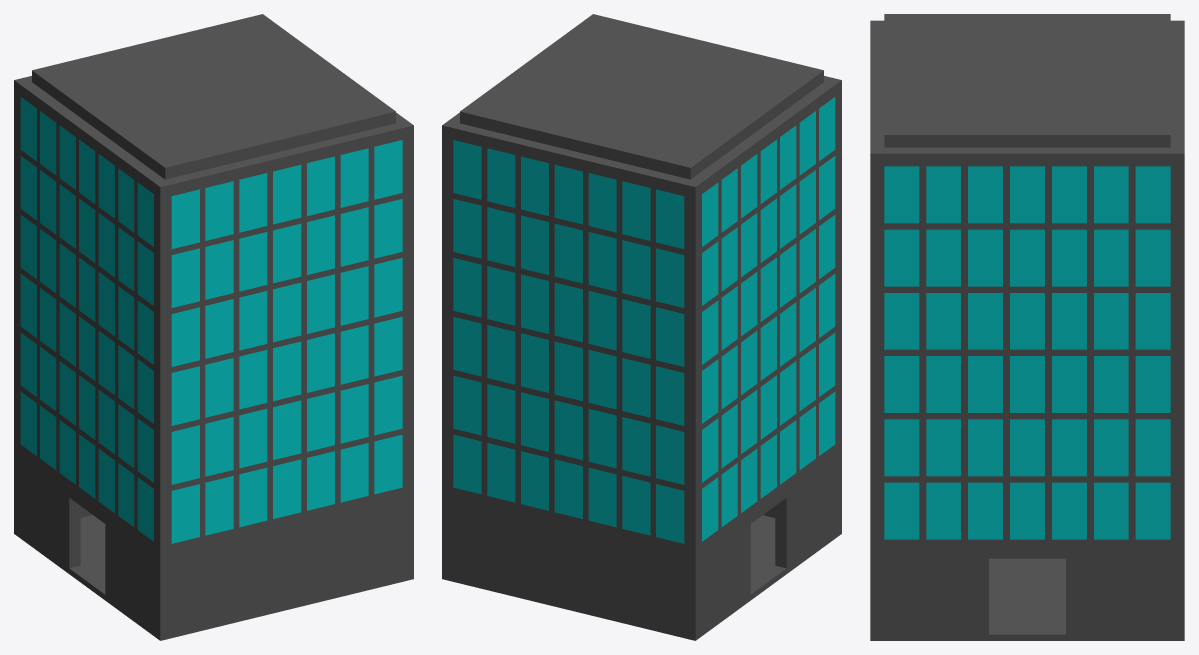
Rendered from little-tower-1-open.obj.
3 renders of one model, left to right at view 1: azimuth 30°, elevation 25°; view 2: azimuth 150°, elevation 25°; view 3: azimuth 270°, elevation 25°, orthographic. The views are drawn at different scales.
Bounding box in the file's own units: 45 × 79 × 45.
Materials: 1 (1 with a texture image).
